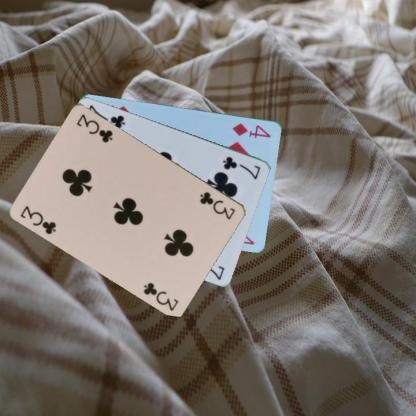3c: (197, 188, 237, 222), (18, 203, 58, 236)
4d: (230, 120, 272, 139)
7c: (220, 153, 262, 181)
